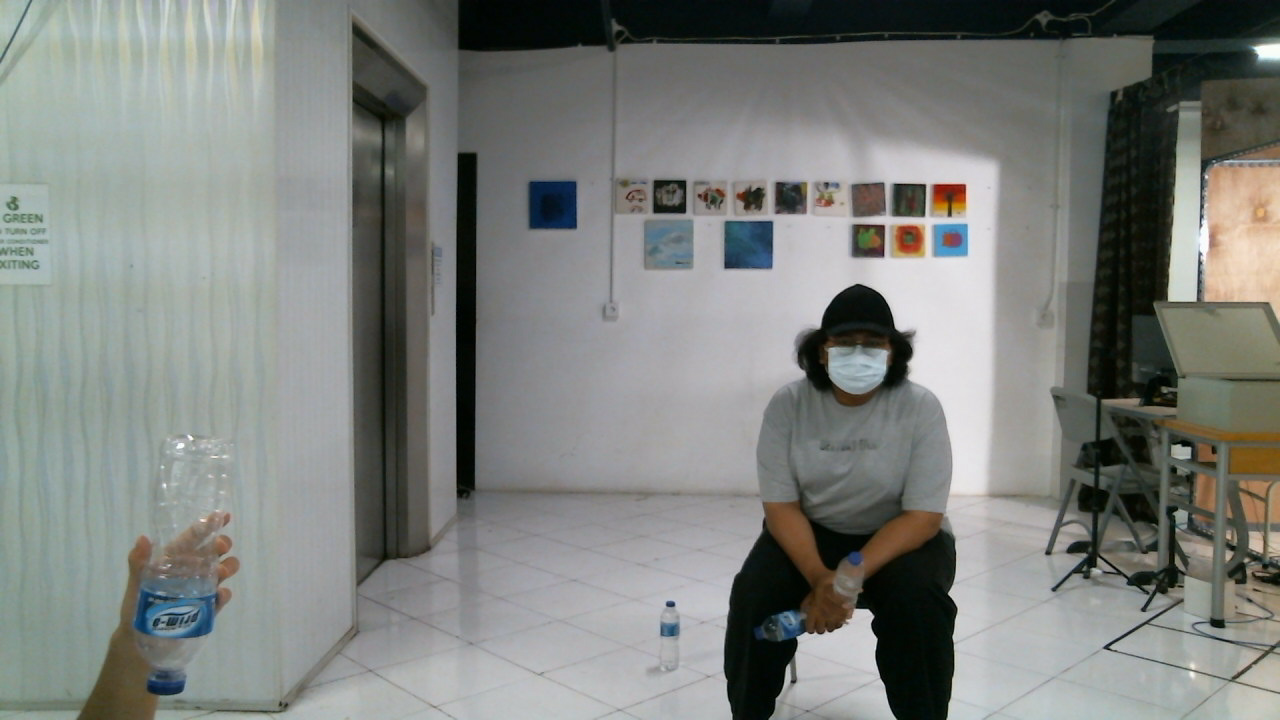Bottle: (125, 428, 230, 696)
